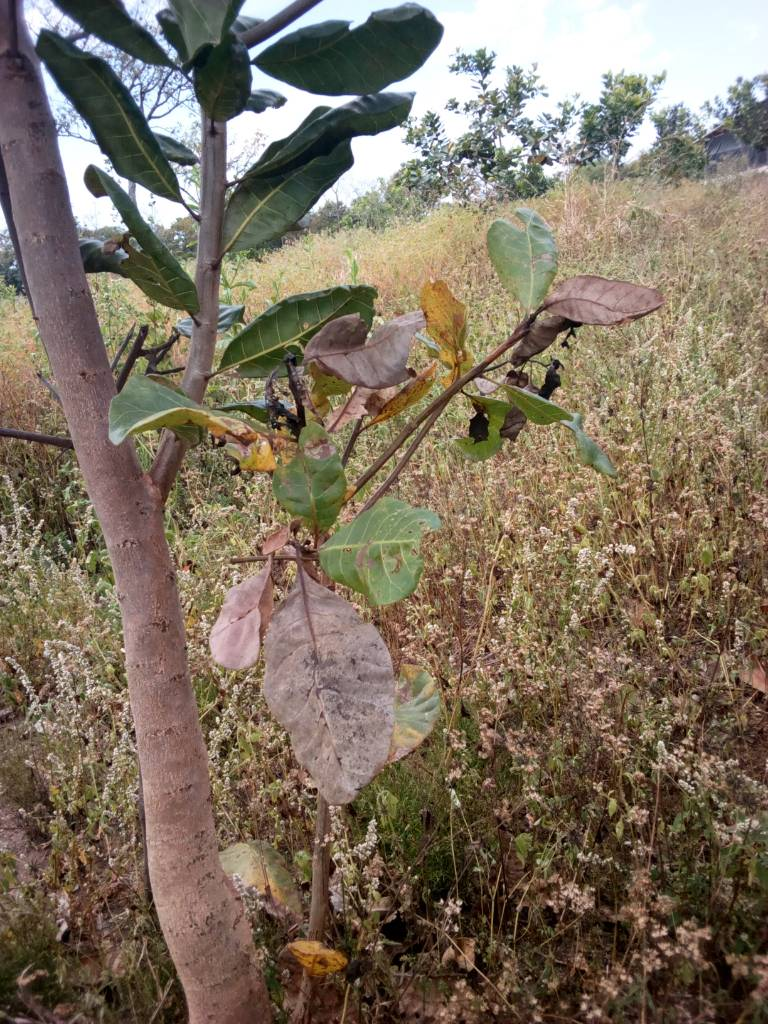Dessèchement des bourgeons: (460, 388, 526, 444), (538, 325, 579, 395)
